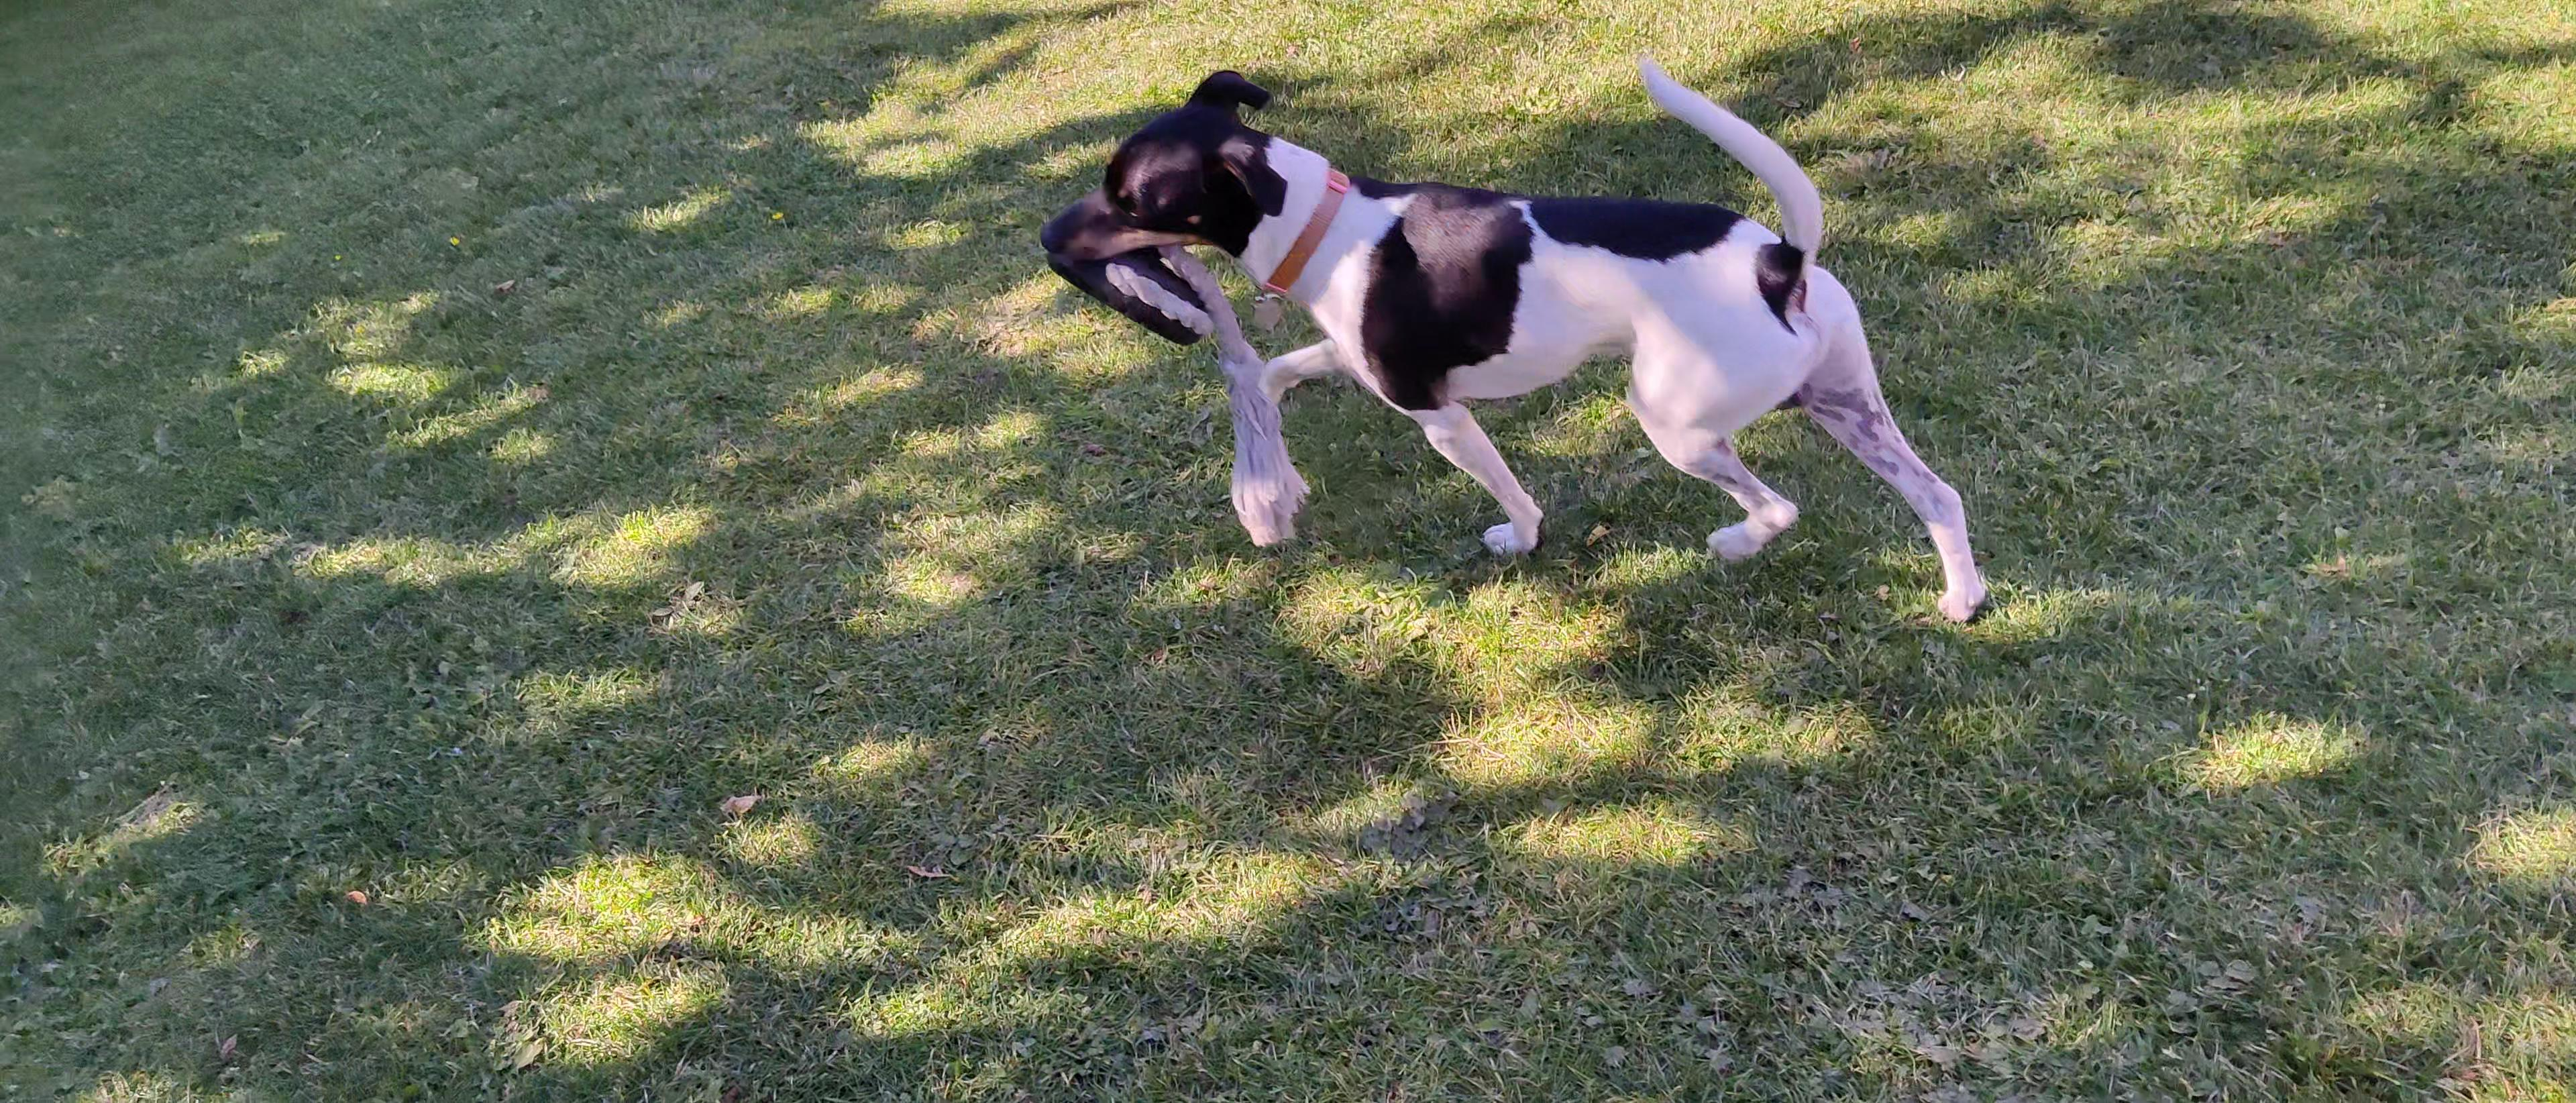Dog: (1030, 46, 2035, 656)
